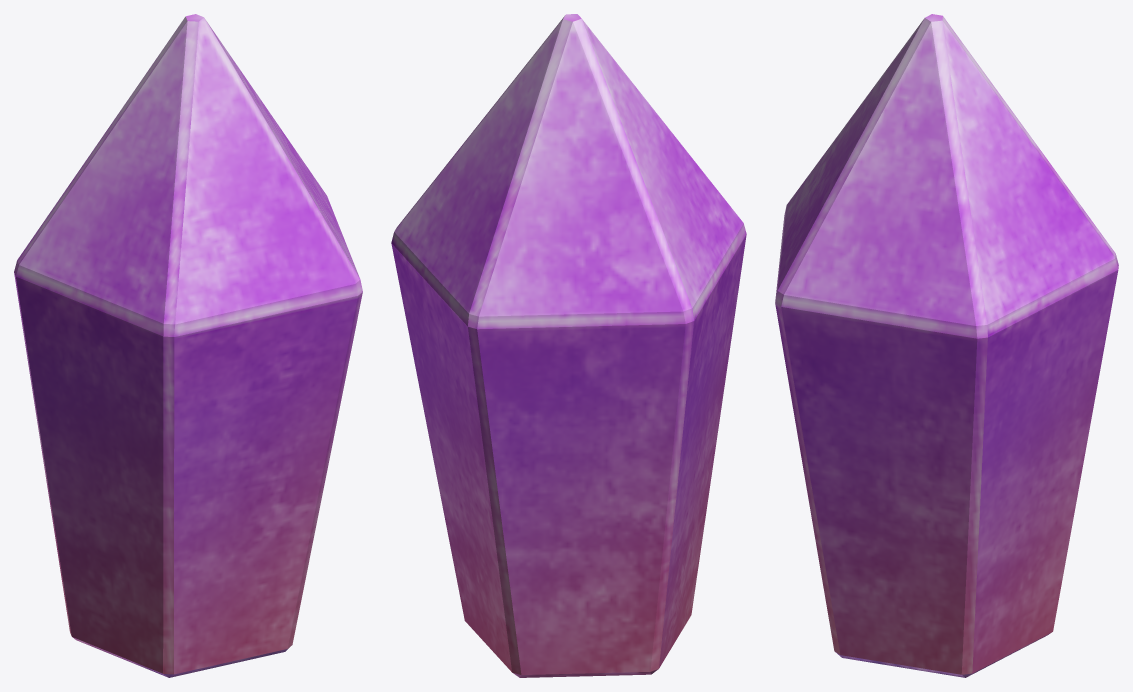
The model's file is gem.dae.
3 renders of one model, left to right at view 1: azimuth 30°, elevation 25°; view 2: azimuth 150°, elevation 25°; view 3: azimuth 270°, elevation 25°, orthographic.
Parts seen in each view (by area): view 1: gem; view 2: gem; view 3: gem.
Boxes of the visible parts, x1,y1,x2,y2 form: gem: (14,14,362,677); gem: (391,14,746,677); gem: (775,14,1118,677).
Size of the model in its own units: 0.7442 by 1.43 by 0.7179.
Materials: 1 (1 with a texture image).
